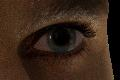eye: (47, 27, 75, 51)
